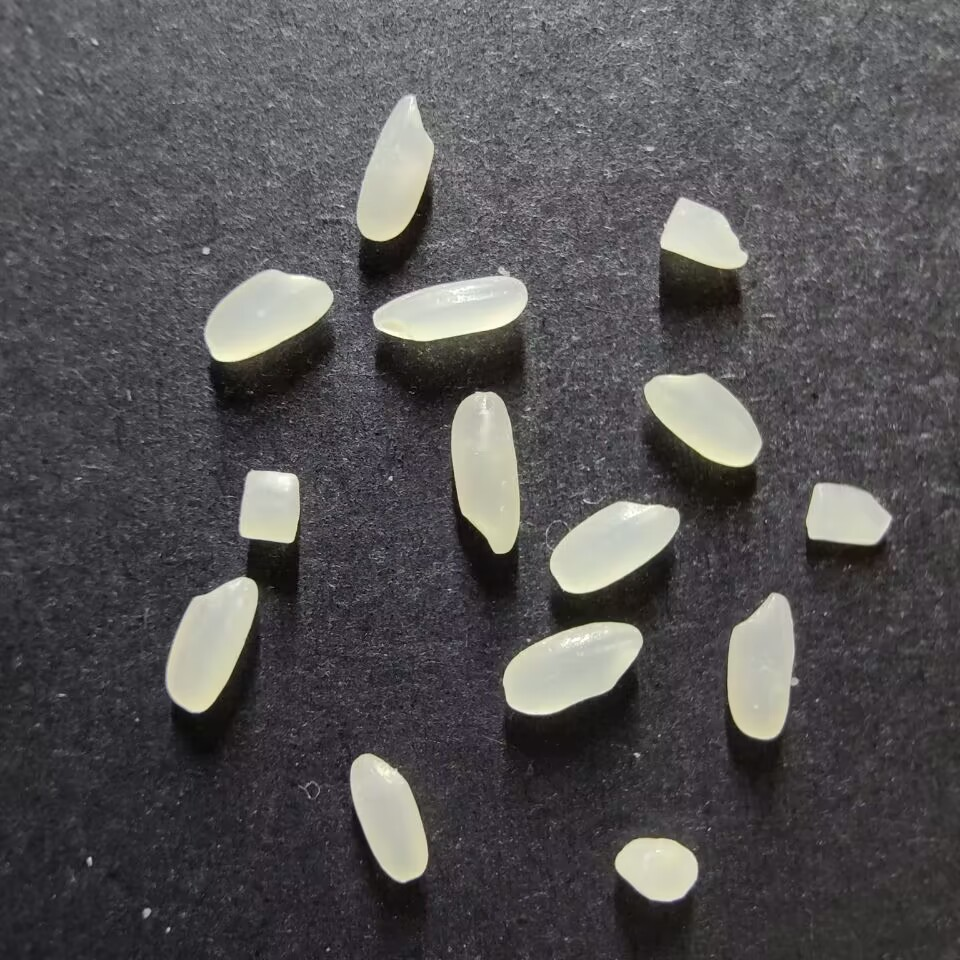broken: (659, 197, 748, 270), (613, 837, 698, 904), (805, 482, 893, 545), (238, 469, 300, 543)
rice: (502, 621, 643, 716), (166, 575, 258, 714), (548, 501, 681, 594), (204, 269, 333, 362), (355, 94, 435, 241), (450, 391, 520, 554), (643, 372, 763, 467), (348, 753, 429, 883), (372, 275, 527, 341), (727, 591, 795, 740)
